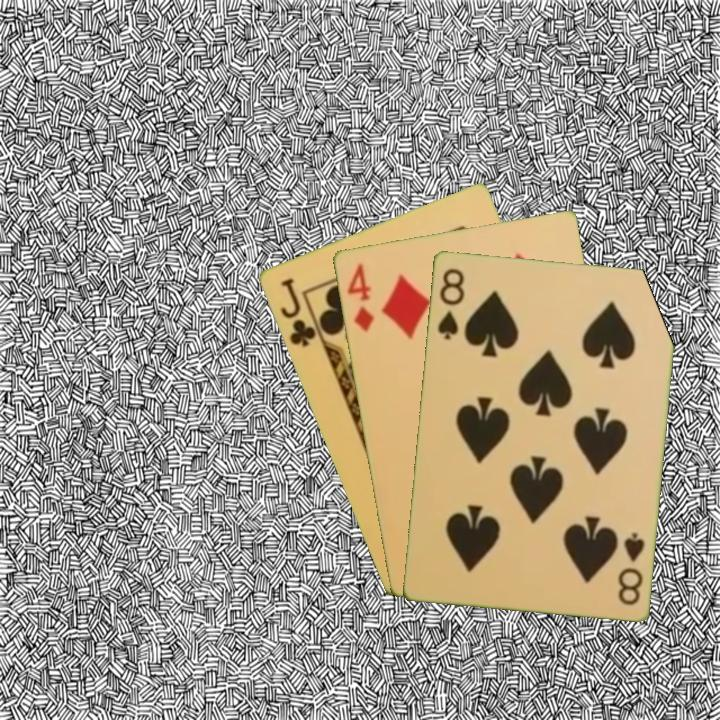4d: (343, 259, 377, 335)
8s: (433, 264, 467, 342), (614, 528, 647, 607)
Jc: (276, 274, 324, 350)
